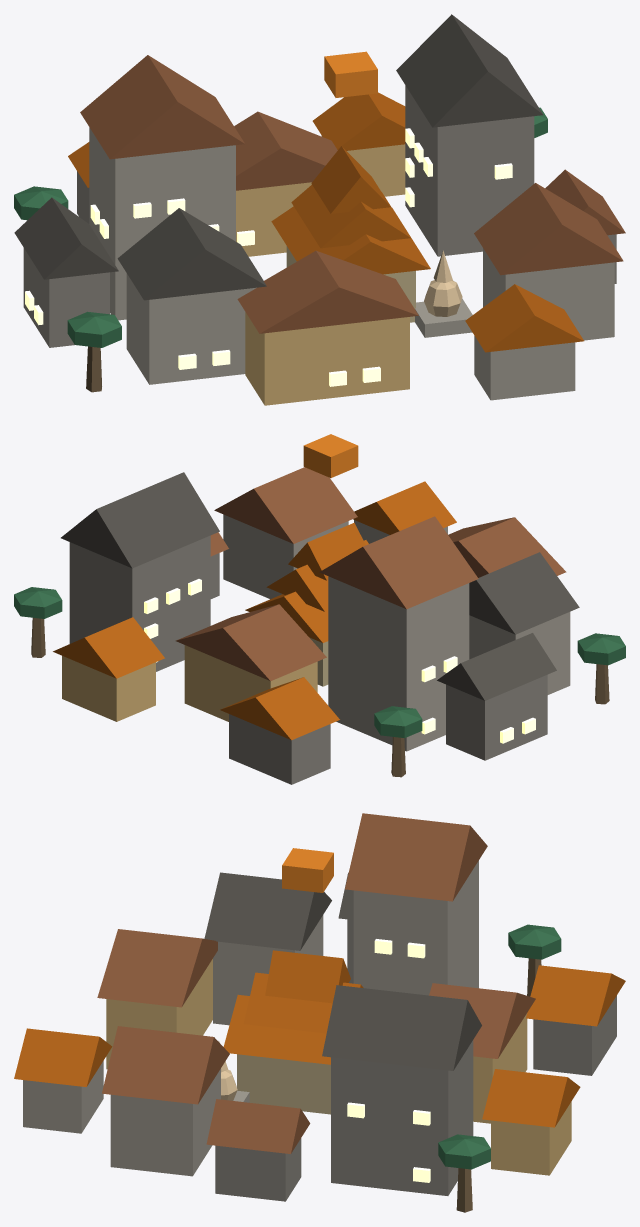
File: overworld-settlement-southeast-asian-town.glb
3 renders of one model, top to bottom at view 1: azimuth 30°, elevation 25°; view 2: azimuth 150°, elevation 25°; view 3: azimuth 270°, elevation 25°, orthographic. The views are drawn at different scales.
Visible parts, largest first — view 1: settlement; view 2: settlement; view 3: settlement.
Part boxes in pixels (x1,y1,x2,y2): settlement: [14, 14, 625, 405]; settlement: [14, 434, 625, 784]; settlement: [14, 813, 625, 1212].
Bounding box in the file's own units: 0.5339 × 0.2106 × 0.5042.
